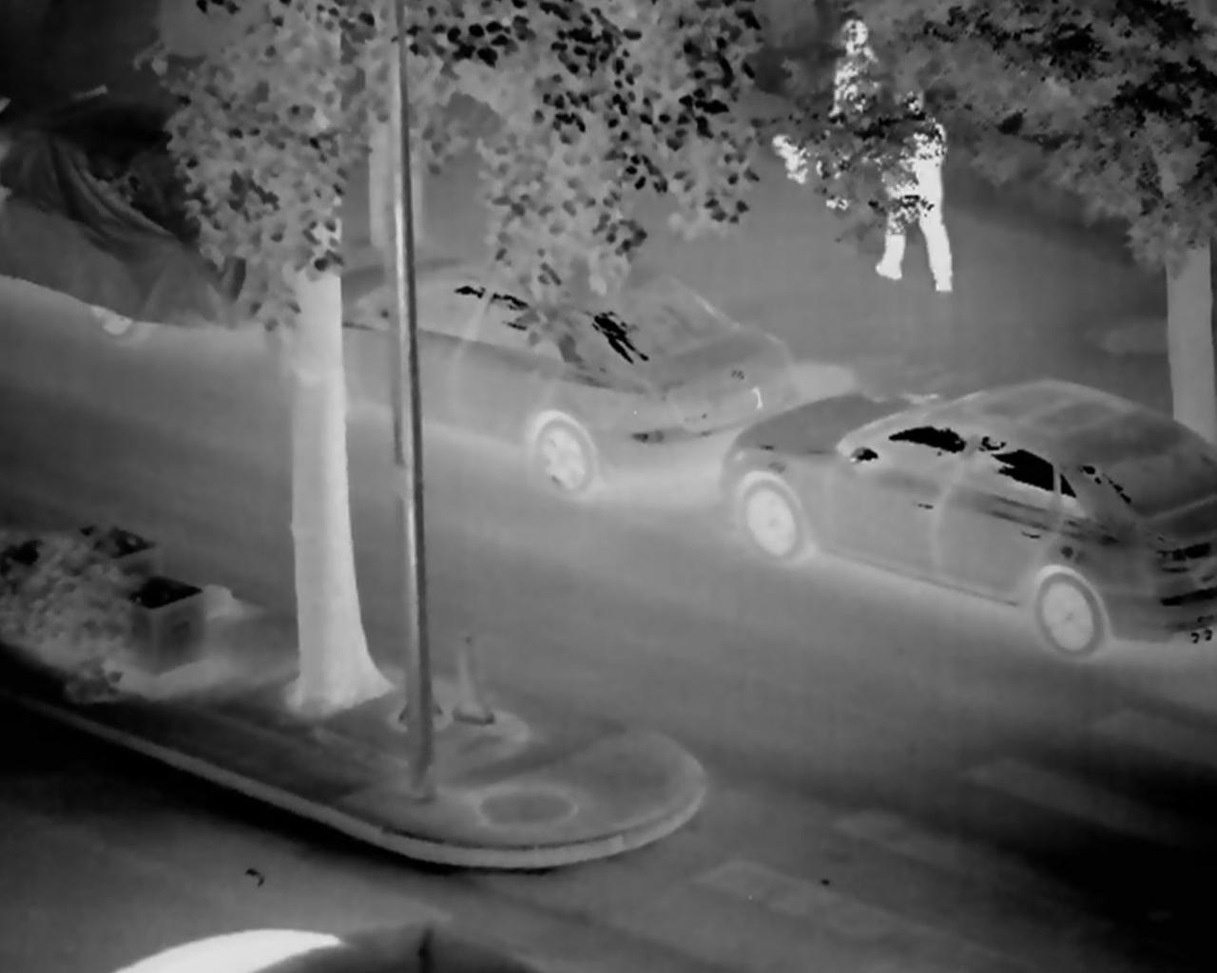person: (878, 77, 963, 293), (822, 18, 885, 213)
